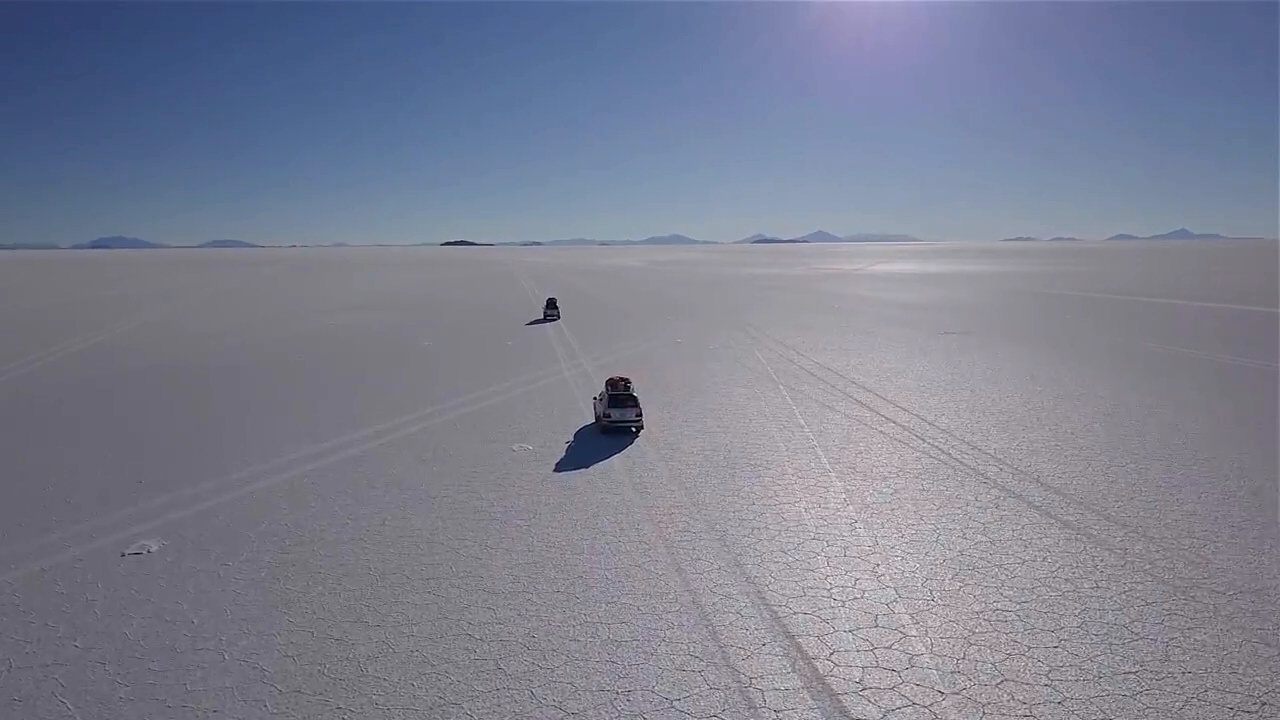araba: (591, 386, 648, 432), (539, 298, 564, 320)
